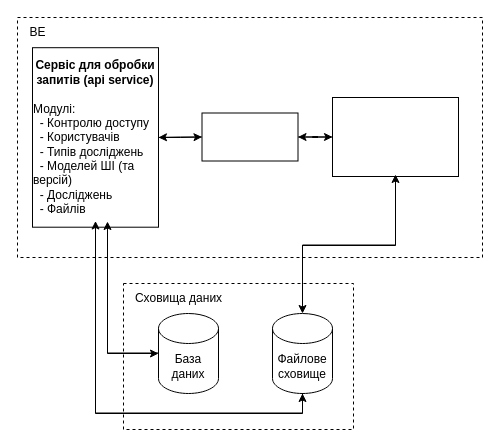
Image size: 500x447. Some labels were removed from this diagram. Here are the shapes that lost their labels. From the top down, the centre of each, then its label:
point 249,136: Черга повідомлень
point 395,136: Сервіс для діагноситки за допомогою моделей ШІ (diseases-analyzer service)
